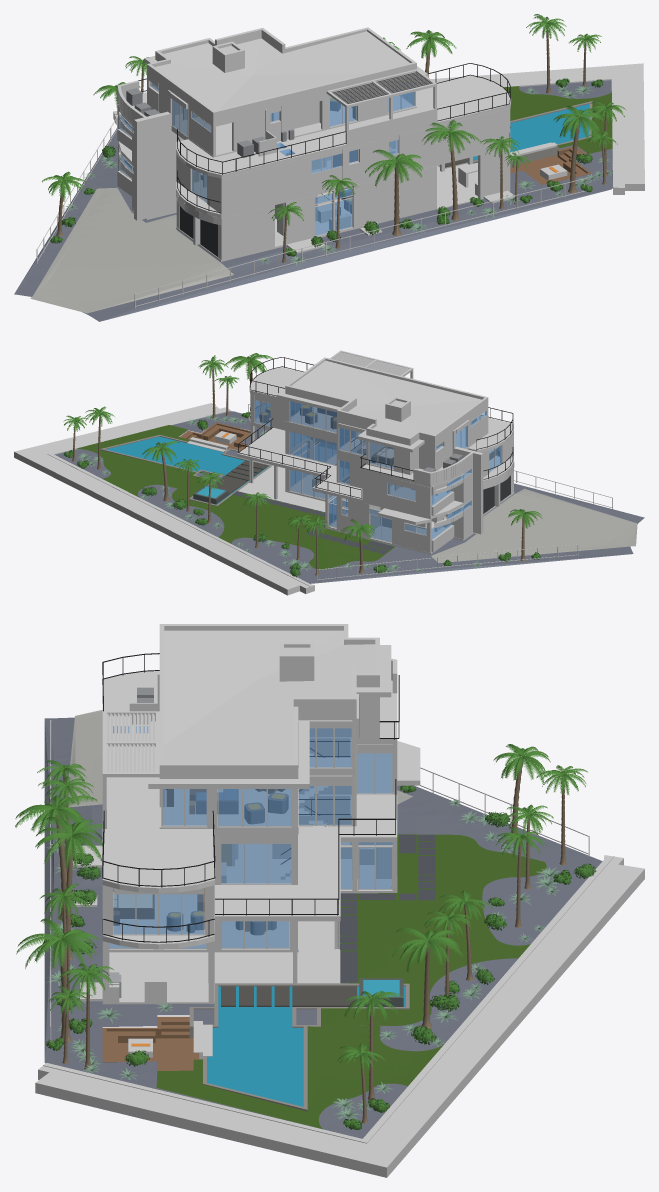
Rendered from whitehouse.glb.
The picture shows the model from 3 angles, top to bottom: view 1: azimuth 30°, elevation 25°; view 2: azimuth 150°, elevation 25°; view 3: azimuth 270°, elevation 25°; orthographic projection. The views are drawn at different scales.
Visible parts, largest first — view 1: Ext_Jardin, Ext_Entrada, Piso_2_Muros, Piso_1_Muros, Cubierta_Losa, Piso_3_Losas, Ext_Muelle, Piso_3_Muros, Cubierta_Parapeto, Piso_3_Parapetos, Piso_1_Losas, Ext_Zona_Verde (+26 smaller); view 2: Ext_Jardin, Ext_Muelle, Ext_Entrada, Cubierta_Losa, Ext_Cesped_Replica, Piso_1_Muros, Piso_2_Muros, Piso_2_Losas, Piso_3_Losas, Ext_Zona_Verde, Piso_1_Losas, Piso_2_Vidrios (+30 smaller); view 3: Ext_Muelle, Ext_Jardin, Cubierta_Losa, Piso_3_Losas, Ext_Cesped_Replica, Piso_1_Losas, Piso_2_Losas, Ext_Zona_Verde, Piso_2_Vidrios, Ext_Piscina_Agua, Piso_3_Vidrios, Cubierta_Parapeto (+39 smaller).
Boxes of the visible parts, x1,y1,x2,y2 form: Ext_Jardin: (14, 80, 612, 321); Ext_Entrada: (30, 187, 233, 313); Piso_2_Muros: (117, 103, 510, 214); Piso_1_Muros: (117, 143, 510, 259); Cubierta_Losa: (147, 31, 416, 122); Piso_3_Losas: (118, 75, 511, 178); Ext_Muelle: (113, 63, 644, 194); Piso_3_Muros: (147, 74, 388, 156); Cubierta_Parapeto: (147, 27, 416, 117); Piso_3_Parapetos: (118, 80, 437, 156); Piso_1_Losas: (118, 163, 515, 261); Ext_Zona_Verde: (504, 86, 612, 153); Ext_Jardin: (55, 411, 644, 583); Ext_Muelle: (14, 403, 314, 595); Ext_Entrada: (431, 488, 637, 563); Cubierta_Losa: (285, 360, 488, 445); Ext_Cesped_Replica: (172, 484, 394, 569); Piso_1_Muros: (249, 425, 514, 552); Piso_2_Muros: (250, 393, 513, 516); Piso_2_Losas: (237, 404, 513, 519); Piso_3_Losas: (249, 367, 513, 487); Ext_Zona_Verde: (76, 425, 209, 497); Piso_1_Losas: (238, 443, 514, 554); Piso_2_Vidrios: (254, 400, 500, 505); Ext_Muelle: (35, 855, 644, 1177); Ext_Jardin: (44, 717, 602, 1138); Cubierta_Losa: (159, 630, 379, 778); Piso_3_Losas: (102, 671, 397, 893); Ext_Cesped_Replica: (340, 834, 546, 1025); Piso_1_Losas: (72, 844, 397, 1004); Piso_2_Losas: (102, 753, 397, 949); Ext_Zona_Verde: (156, 1008, 444, 1128); Piso_2_Vidrios: (114, 753, 392, 934); Ext_Piscina_Agua: (207, 986, 405, 1106); Piso_3_Vidrios: (113, 726, 351, 825); Cubierta_Parapeto: (159, 624, 379, 771).
Size of the model in its own units: 61.4 by 14.02 by 33.73.
Materials: 34 (12 with a texture image).
